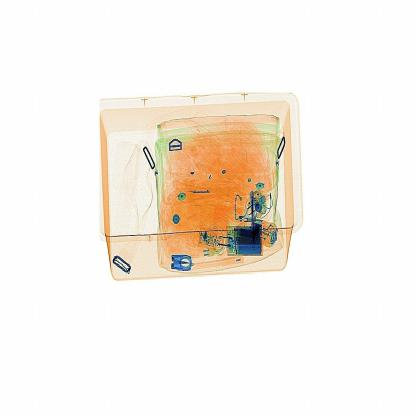knife: (245, 178, 266, 244)
